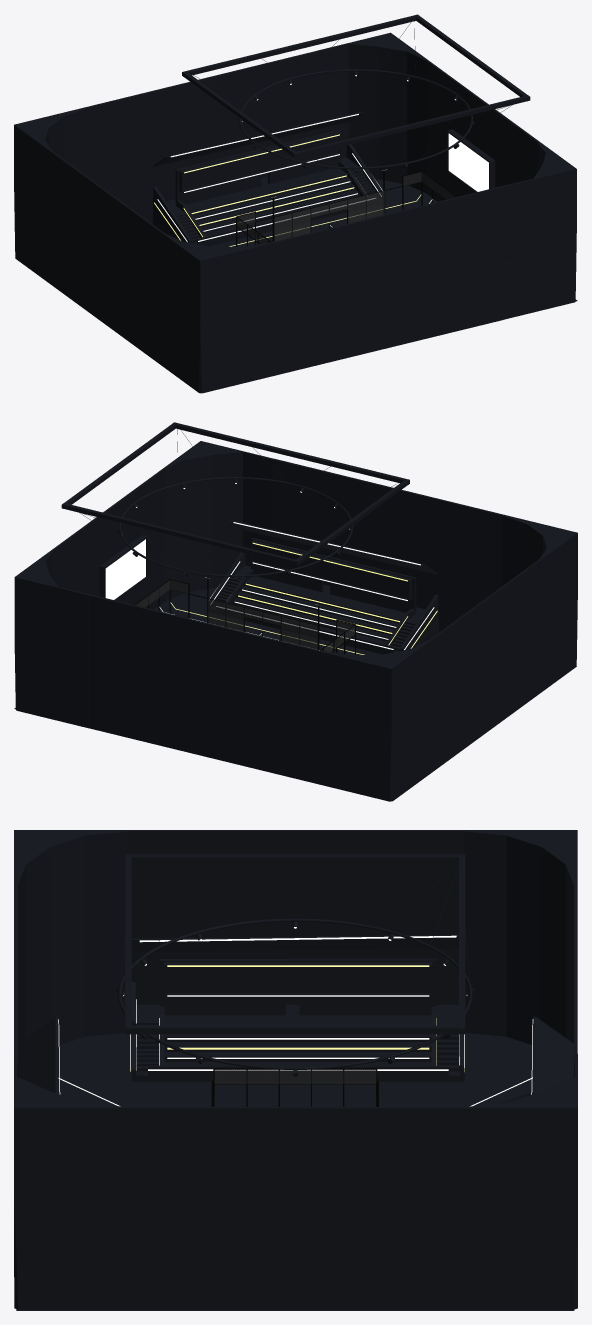
The model's file is TacPadelPremium.glb.
The picture shows the model from 3 angles, top to bottom: view 1: azimuth 30°, elevation 25°; view 2: azimuth 150°, elevation 25°; view 3: azimuth 270°, elevation 25°; orthographic projection. The views are drawn at different scales.
Visible parts, largest first — view 1: Würfel.004, Tribüne.002, Boden.001, Würfel.003, Stahlträger.010, Stahlträger.007, Stahlträger.006, Kreis.001, Gitter.004, Gitter.005; view 2: Würfel.004, Tribüne.002, Boden.001, Würfel.003, Stahlträger.010, Stahlträger.006, Stahlträger.007, Kreis.001, Gitter.005, Gitter.004; view 3: Würfel.004, Tribüne.003, Boden.001, Stahlträger.010, Tribüne.002, Kreis.001, Stahlträger.007, Stahlträger.006, Glas.013, Glas.014.
Part boxes in pixels (x1=…): Würfel.004: x1=14, y1=32, x2=576, y2=393; Tribüne.002: x1=152, y1=111, x2=534, y2=319; Boden.001: x1=199, y1=179, x2=577, y2=393; Würfel.003: x1=447, y1=129, x2=495, y2=192; Stahlträger.010: x1=184, y1=15, x2=527, y2=155; Stahlträger.007: x1=292, y1=95, x2=530, y2=157; Stahlträger.006: x1=182, y1=14, x2=419, y2=76; Kreis.001: x1=239, y1=69, x2=473, y2=169; Gitter.004: x1=274, y1=191, x2=384, y2=241; Gitter.005: x1=292, y1=195, x2=366, y2=236; Würfel.004: x1=14, y1=441, x2=577, y2=801; Tribüne.002: x1=208, y1=519, x2=438, y2=654; Boden.001: x1=14, y1=587, x2=381, y2=709; Würfel.003: x1=99, y1=535, x2=147, y2=600; Stahlträger.010: x1=64, y1=424, x2=407, y2=563; Stahlträger.006: x1=61, y1=503, x2=299, y2=565; Stahlträger.007: x1=172, y1=422, x2=409, y2=484; Kreis.001: x1=118, y1=477, x2=352, y2=576; Gitter.005: x1=225, y1=603, x2=299, y2=645; Gitter.004: x1=207, y1=599, x2=317, y2=649; Würfel.004: x1=14, y1=830, x2=577, y2=1309; Tribüne.003: x1=130, y1=934, x2=464, y2=1081; Boden.001: x1=16, y1=1032, x2=574, y2=1310; Stahlträger.010: x1=131, y1=854, x2=465, y2=1034; Tribüne.002: x1=14, y1=1016, x2=573, y2=1276; Kreis.001: x1=118, y1=918, x2=472, y2=1069; Stahlträger.007: x1=125, y1=854, x2=131, y2=1034; Stahlträger.006: x1=459, y1=856, x2=465, y2=1034; Glas.013: x1=214, y1=1069, x2=375, y2=1084; Glas.014: x1=247, y1=1069, x2=343, y2=1084.
Size of the model in its own units: 41.04 by 18.78 by 34.98.
9 materials, 1 textured.
